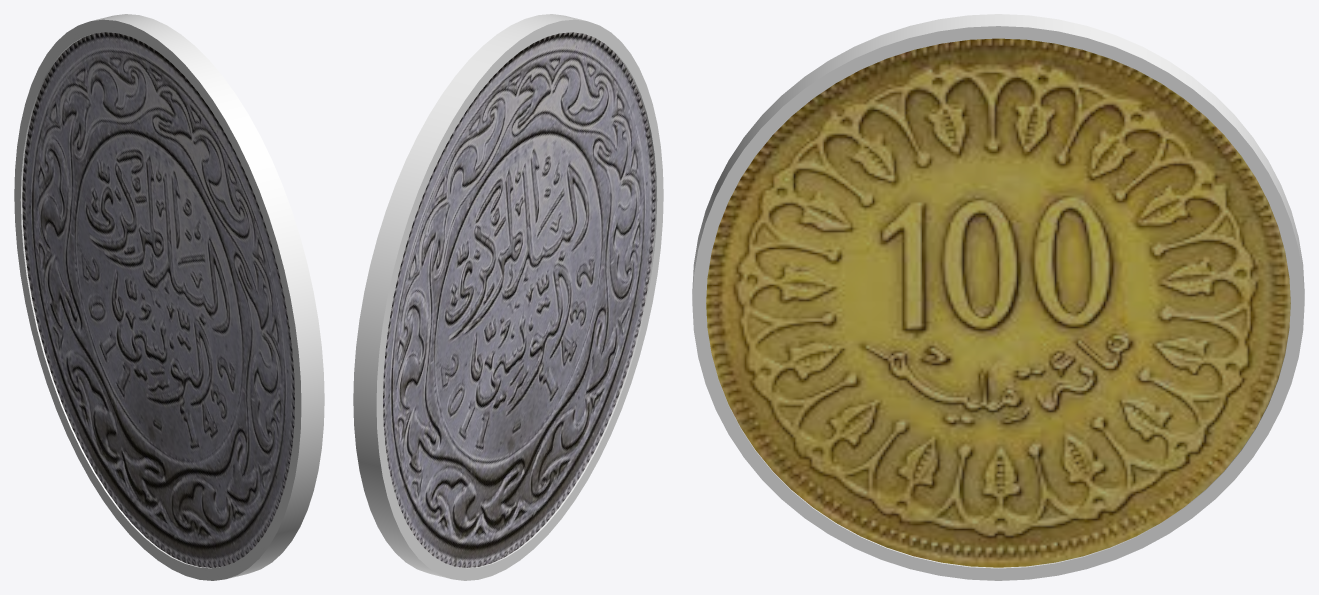
Rendered from 100milimglb.glb.
The picture shows the model from 3 angles, left to right: view 1: azimuth 30°, elevation 25°; view 2: azimuth 150°, elevation 25°; view 3: azimuth 270°, elevation 25°; orthographic projection. The views are drawn at different scales.
Visible parts, largest first — view 1: Cylinder; view 2: Cylinder; view 3: Cylinder.
Part boxes in pixels (x1=…): Cylinder: x1=14, y1=14, x2=324, y2=580; Cylinder: x1=353, y1=14, x2=663, y2=580; Cylinder: x1=692, y1=14, x2=1304, y2=580.
Bounding box in the file's own units: 0.0646 × 1.39 × 1.39.
3 materials, 2 textured.
